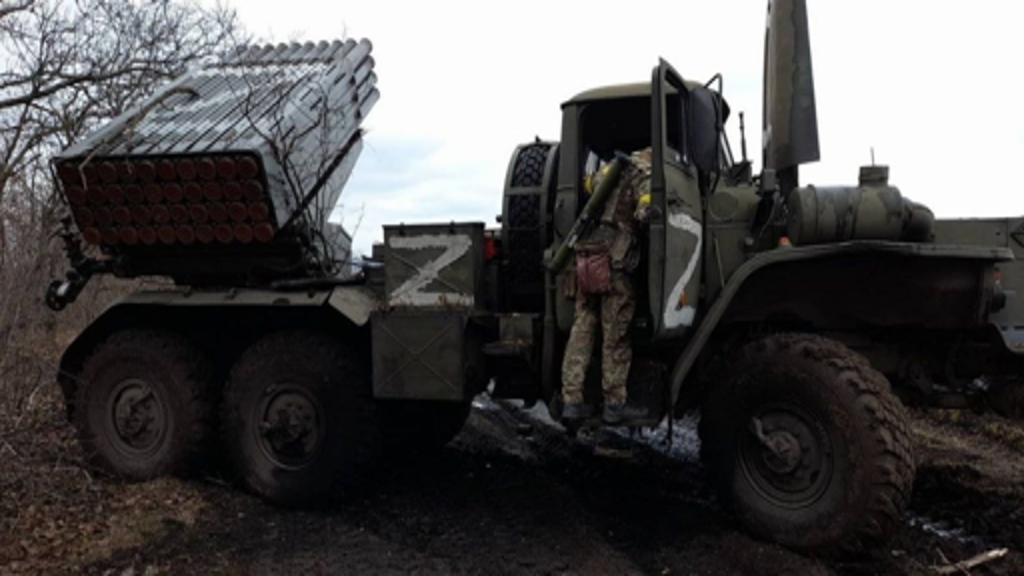MLRS: (38, 35, 1008, 538)
